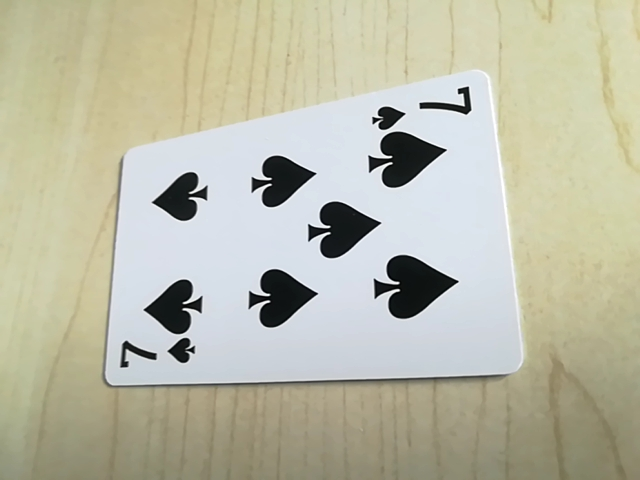ht 7: (366, 87, 480, 128), (111, 333, 203, 378)
